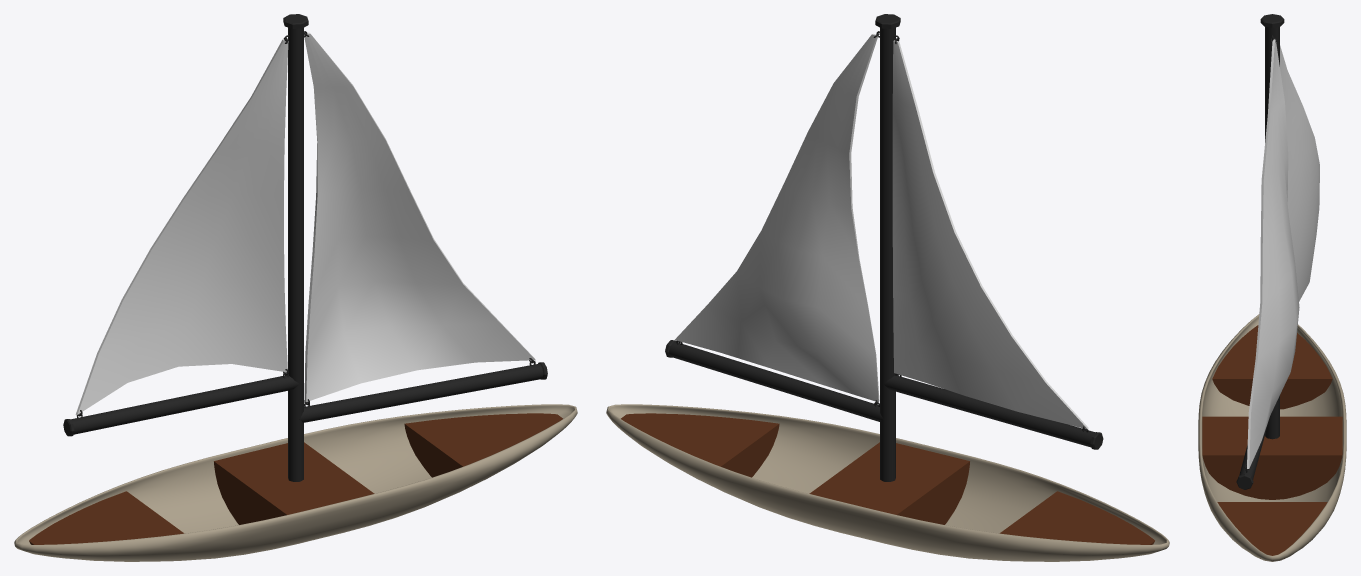
The model's file is Y_Yatch.FBX.
3 views of the same model, side by side, from view 1: azimuth 30°, elevation 25°; view 2: azimuth 150°, elevation 25°; view 3: azimuth 270°, elevation 25° (orthographic). The views are drawn at different scales.
Parts seen in each view (by area): view 1: Object001, Y_Yatch, Object002; view 2: Object001, Y_Yatch, Object002; view 3: Y_Yatch, Object001, Object002.
Part boxes in pixels (x1,y1,x2,y2): Object001: (75, 32, 535, 414); Y_Yatch: (14, 404, 577, 561); Object002: (63, 14, 547, 481); Object001: (675, 34, 1088, 429); Y_Yatch: (606, 404, 1169, 561); Object002: (665, 14, 1103, 481); Y_Yatch: (1198, 314, 1346, 561); Object001: (1247, 39, 1319, 468); Object002: (1236, 14, 1284, 489).
Bounding box in the file's own units: 11.86 × 10.36 × 2.99.
